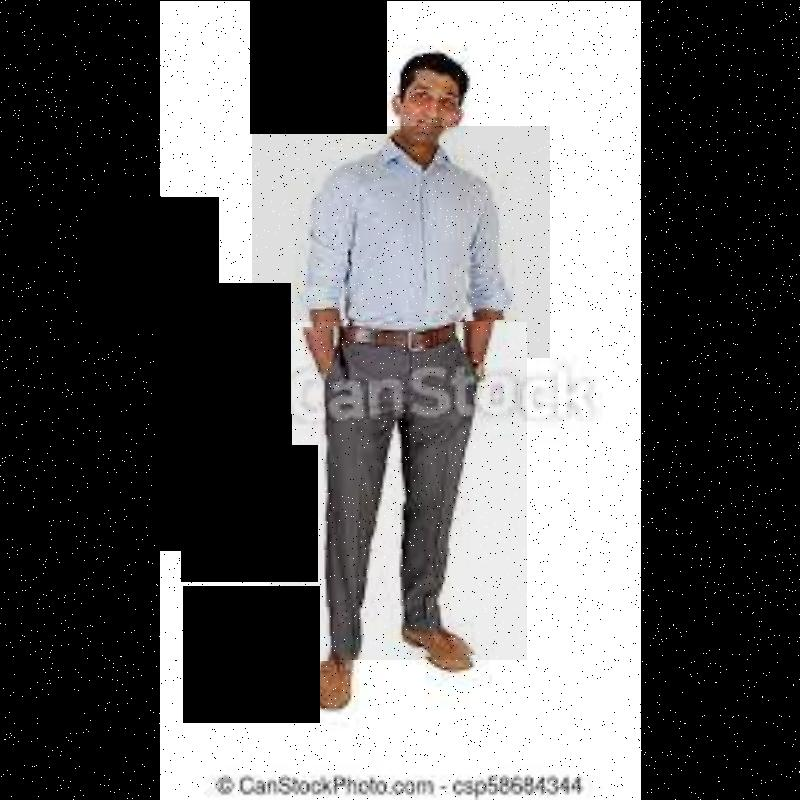Pant: (269, 322, 527, 660)
Shirt: (252, 126, 550, 358)
